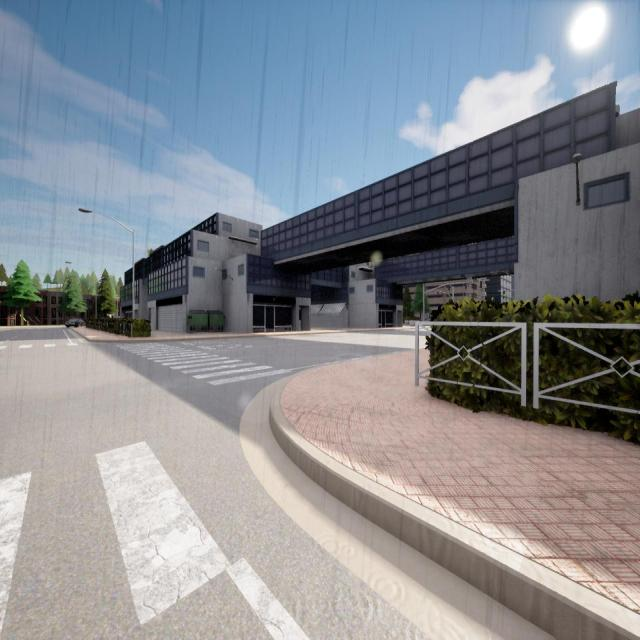Vehicle: (65, 318, 85, 327)
traffic_light: (465, 282, 467, 290), (503, 291, 505, 298), (480, 282, 482, 288), (448, 285, 450, 290), (437, 291, 439, 296), (446, 293, 447, 297), (442, 292, 442, 297)
